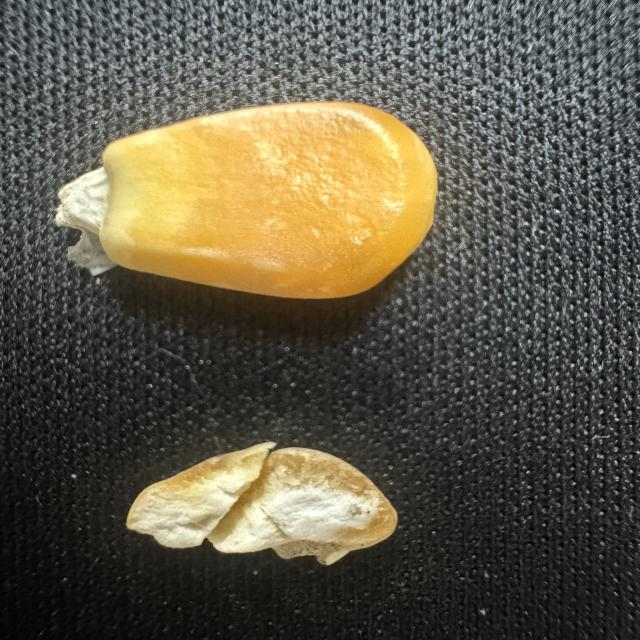Bad-Seed: (119, 429, 406, 589)
Good-Seed: (47, 89, 467, 301)
